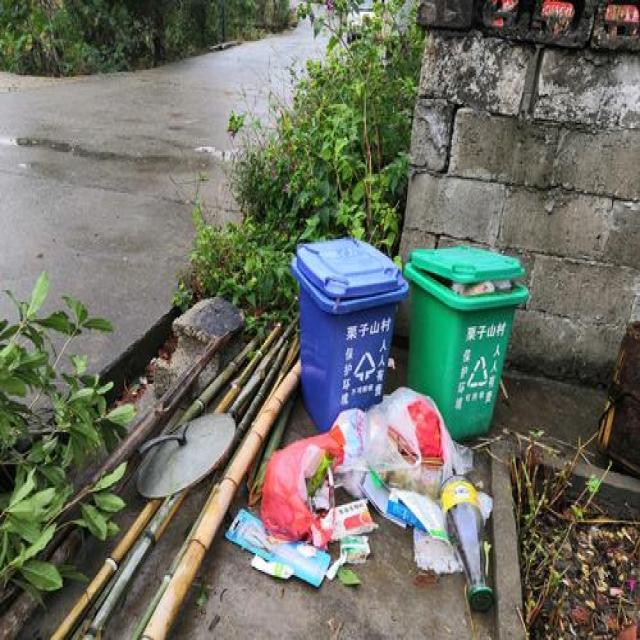garbage: (221, 388, 493, 608)
garbage_bin: (289, 236, 407, 428)
overflow: (403, 246, 530, 437)
